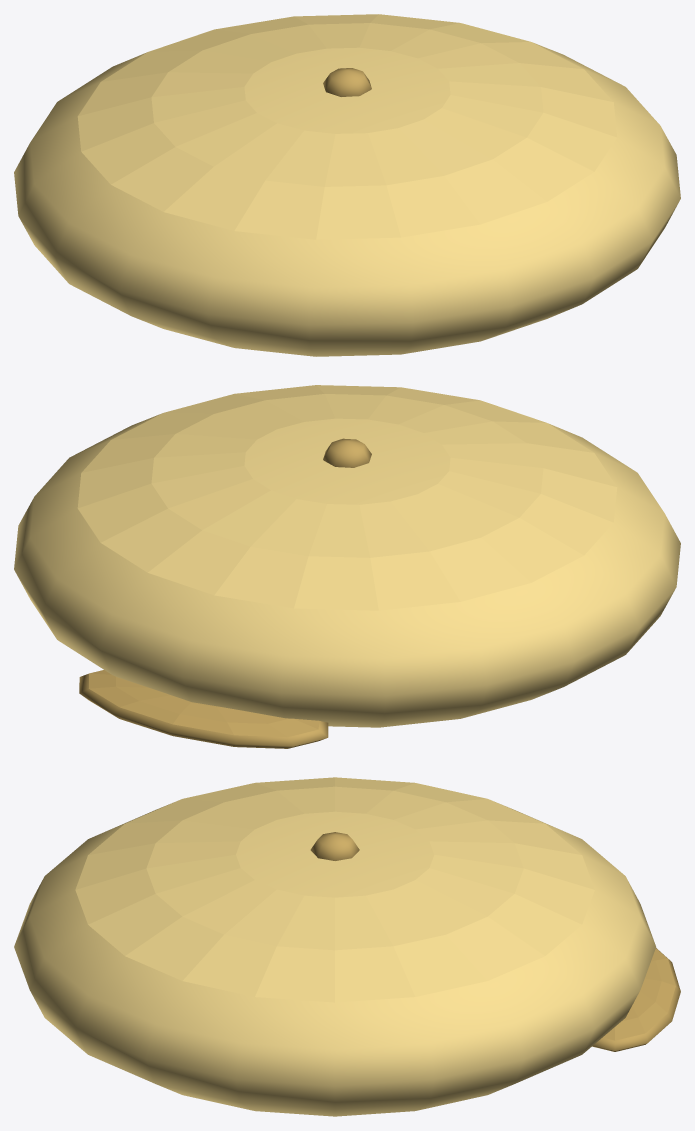
Rendered from Acc_Newsboy.fbx.
The picture shows the model from 3 angles, top to bottom: view 1: azimuth 30°, elevation 25°; view 2: azimuth 150°, elevation 25°; view 3: azimuth 270°, elevation 25°; orthographic projection. The views are drawn at different scales.
Visible parts, largest first — view 1: Newsboy_Cap, Newsboy_Button; view 2: Newsboy_Cap, Newsboy_Bill, Newsboy_Button; view 3: Newsboy_Cap, Newsboy_Bill, Newsboy_Button.
Boxes of the visible parts, box(x1,y1,x2,y2) form: Newsboy_Cap: box(14, 14, 680, 356); Newsboy_Button: box(323, 68, 371, 96); Newsboy_Cap: box(14, 385, 680, 727); Newsboy_Bill: box(79, 670, 328, 748); Newsboy_Button: box(323, 438, 371, 467); Newsboy_Cap: box(14, 777, 655, 1116); Newsboy_Bill: box(592, 948, 680, 1051); Newsboy_Button: box(310, 832, 359, 860).
Size of the model in its own units: 80 by 28 by 81.
